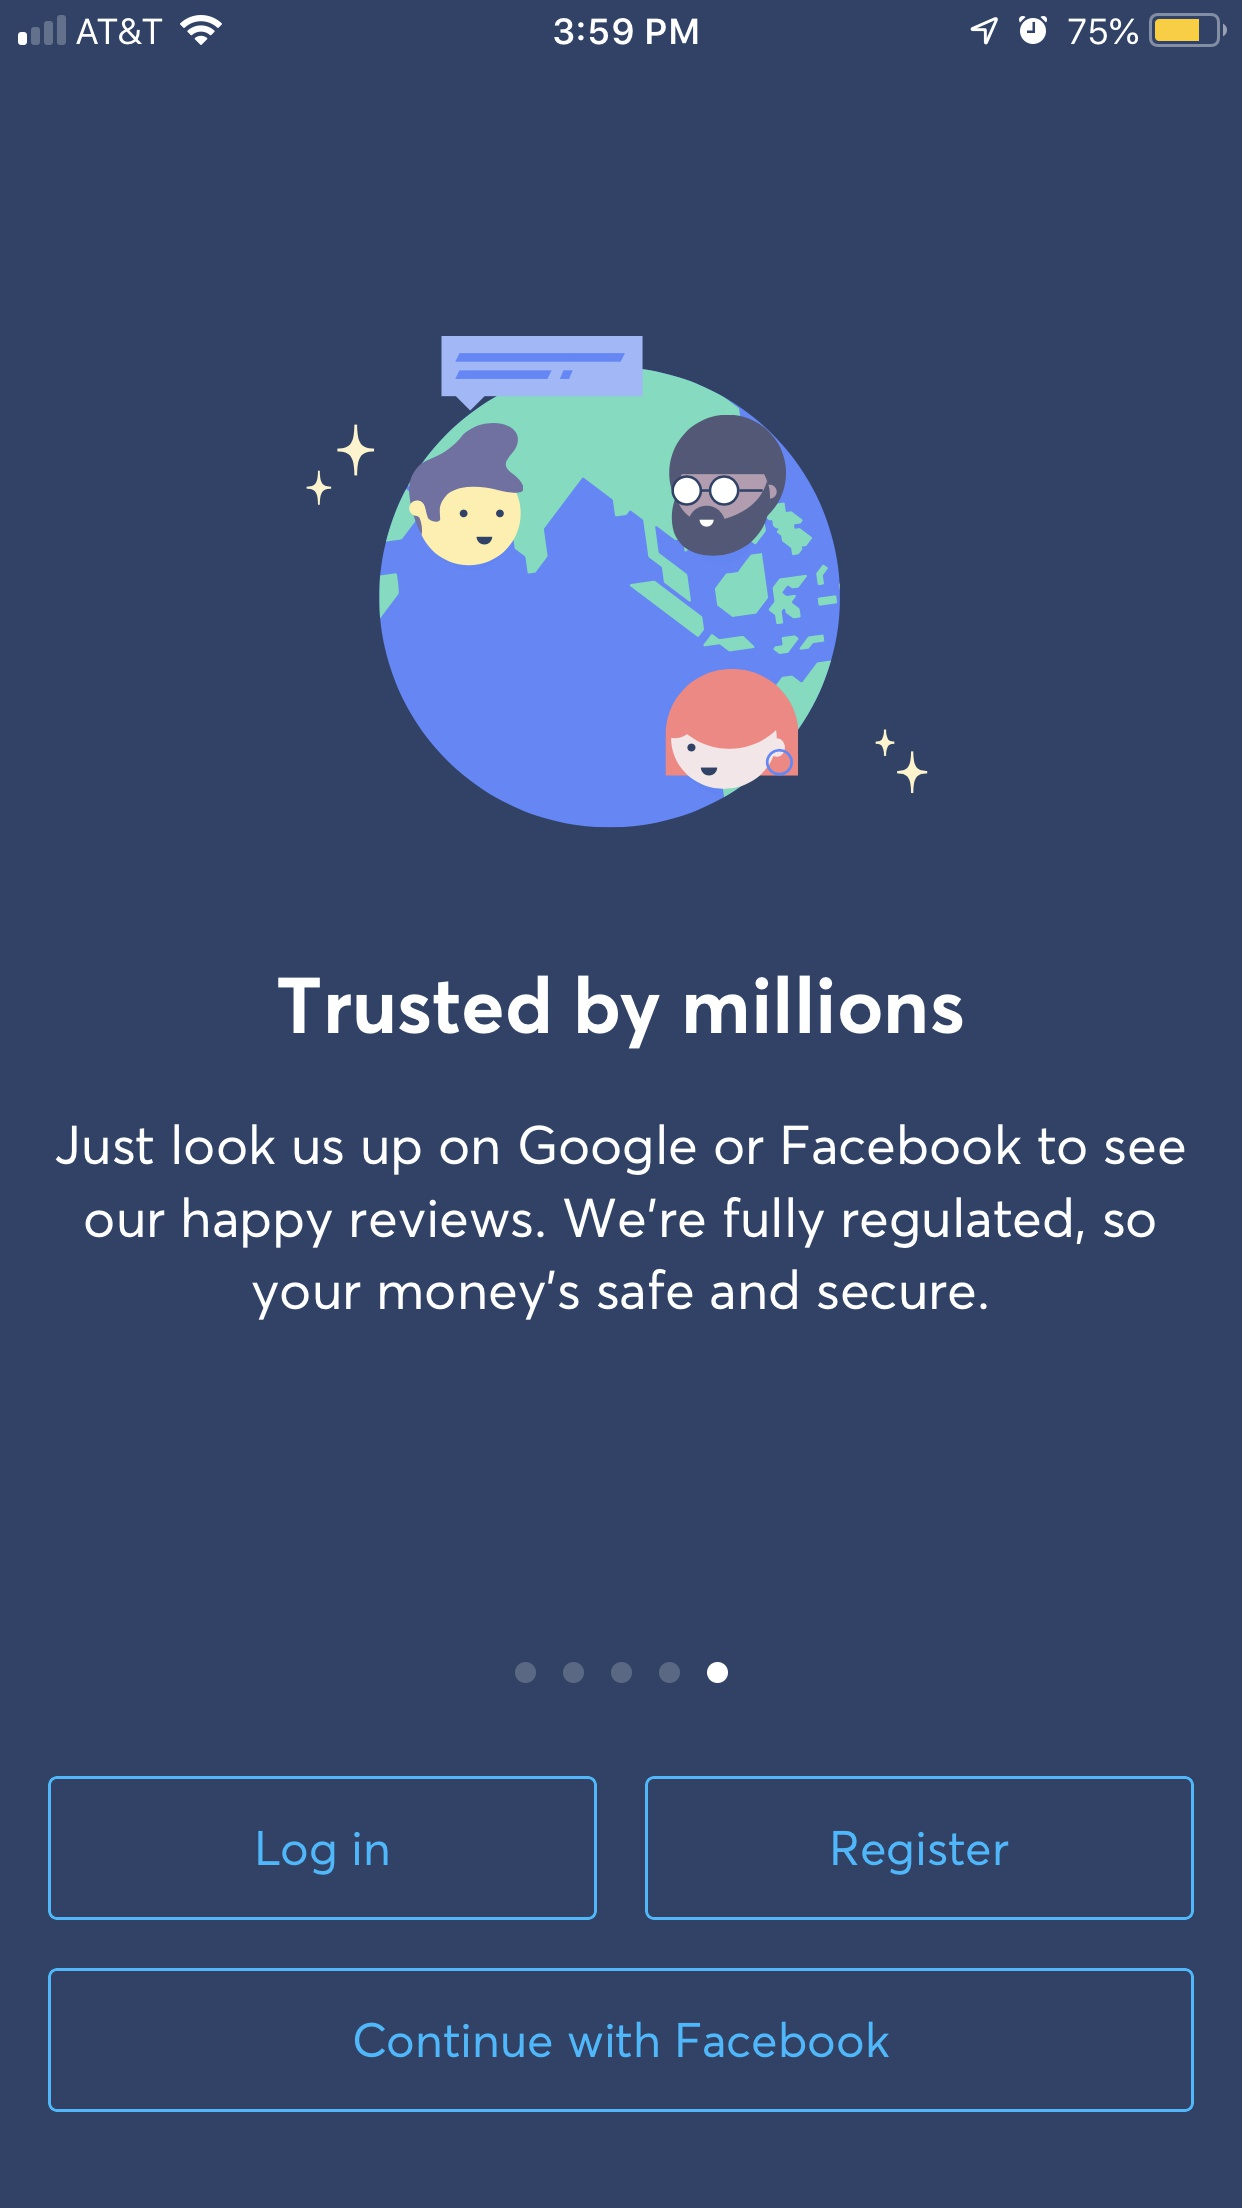Image: (306, 337, 930, 830)
PageIndicator: (516, 1661, 729, 1685)
Text: (56, 1124, 1186, 1322), (278, 975, 964, 1051)
TextButton: (49, 1967, 1195, 2112), (645, 1774, 1195, 1921), (49, 1774, 597, 1921)
UpperTaskBar: (2, 2, 1242, 49)
